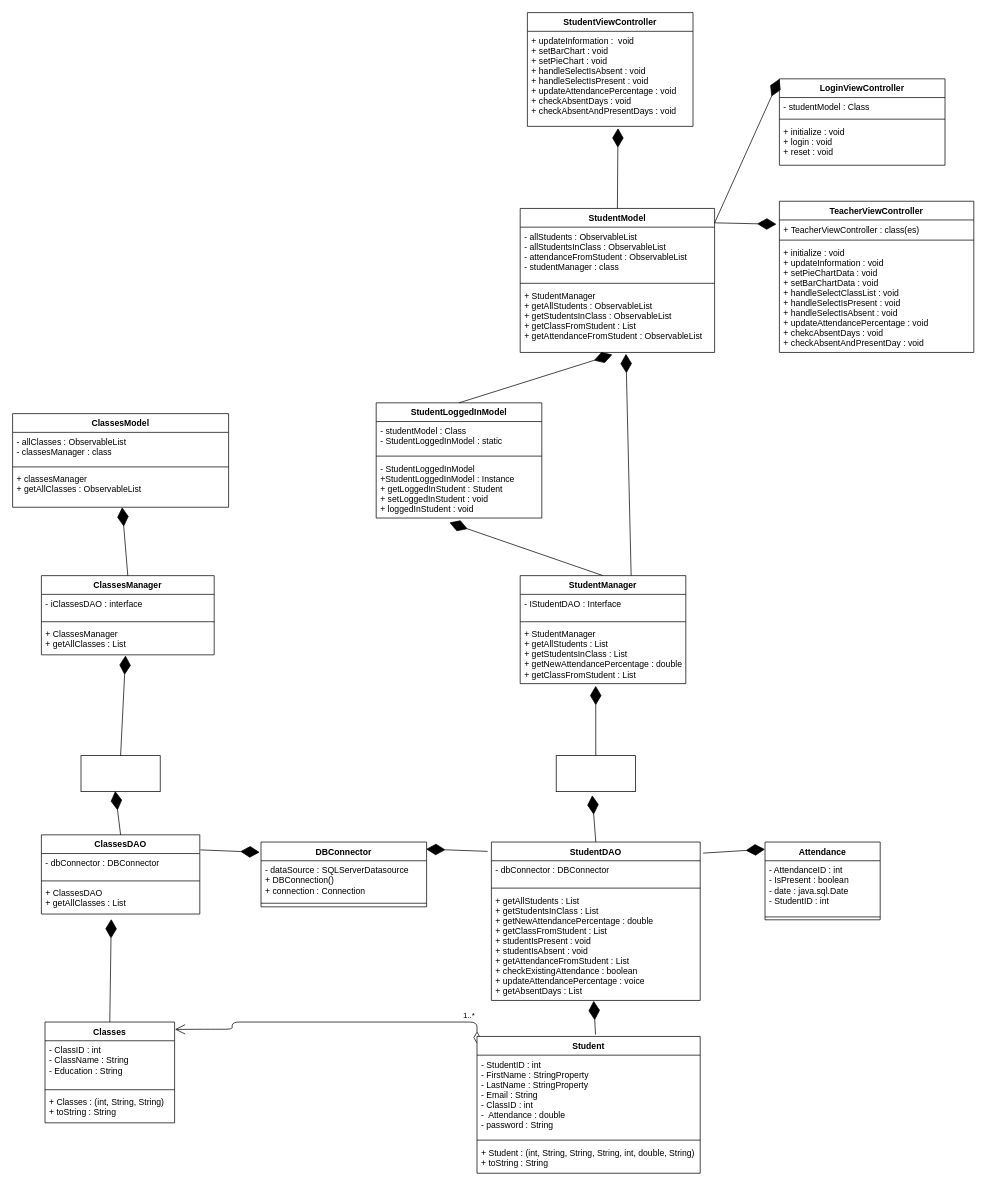
This 986x1188 diagram has some shape labels left out. The shapes that lost their labels are listed below. From the top down, each one's centre as x and y in pixels, then its label:
At (120,773): "«interface» IClassesDAO".
At (595,773): "«interface» IStudentDAO".
